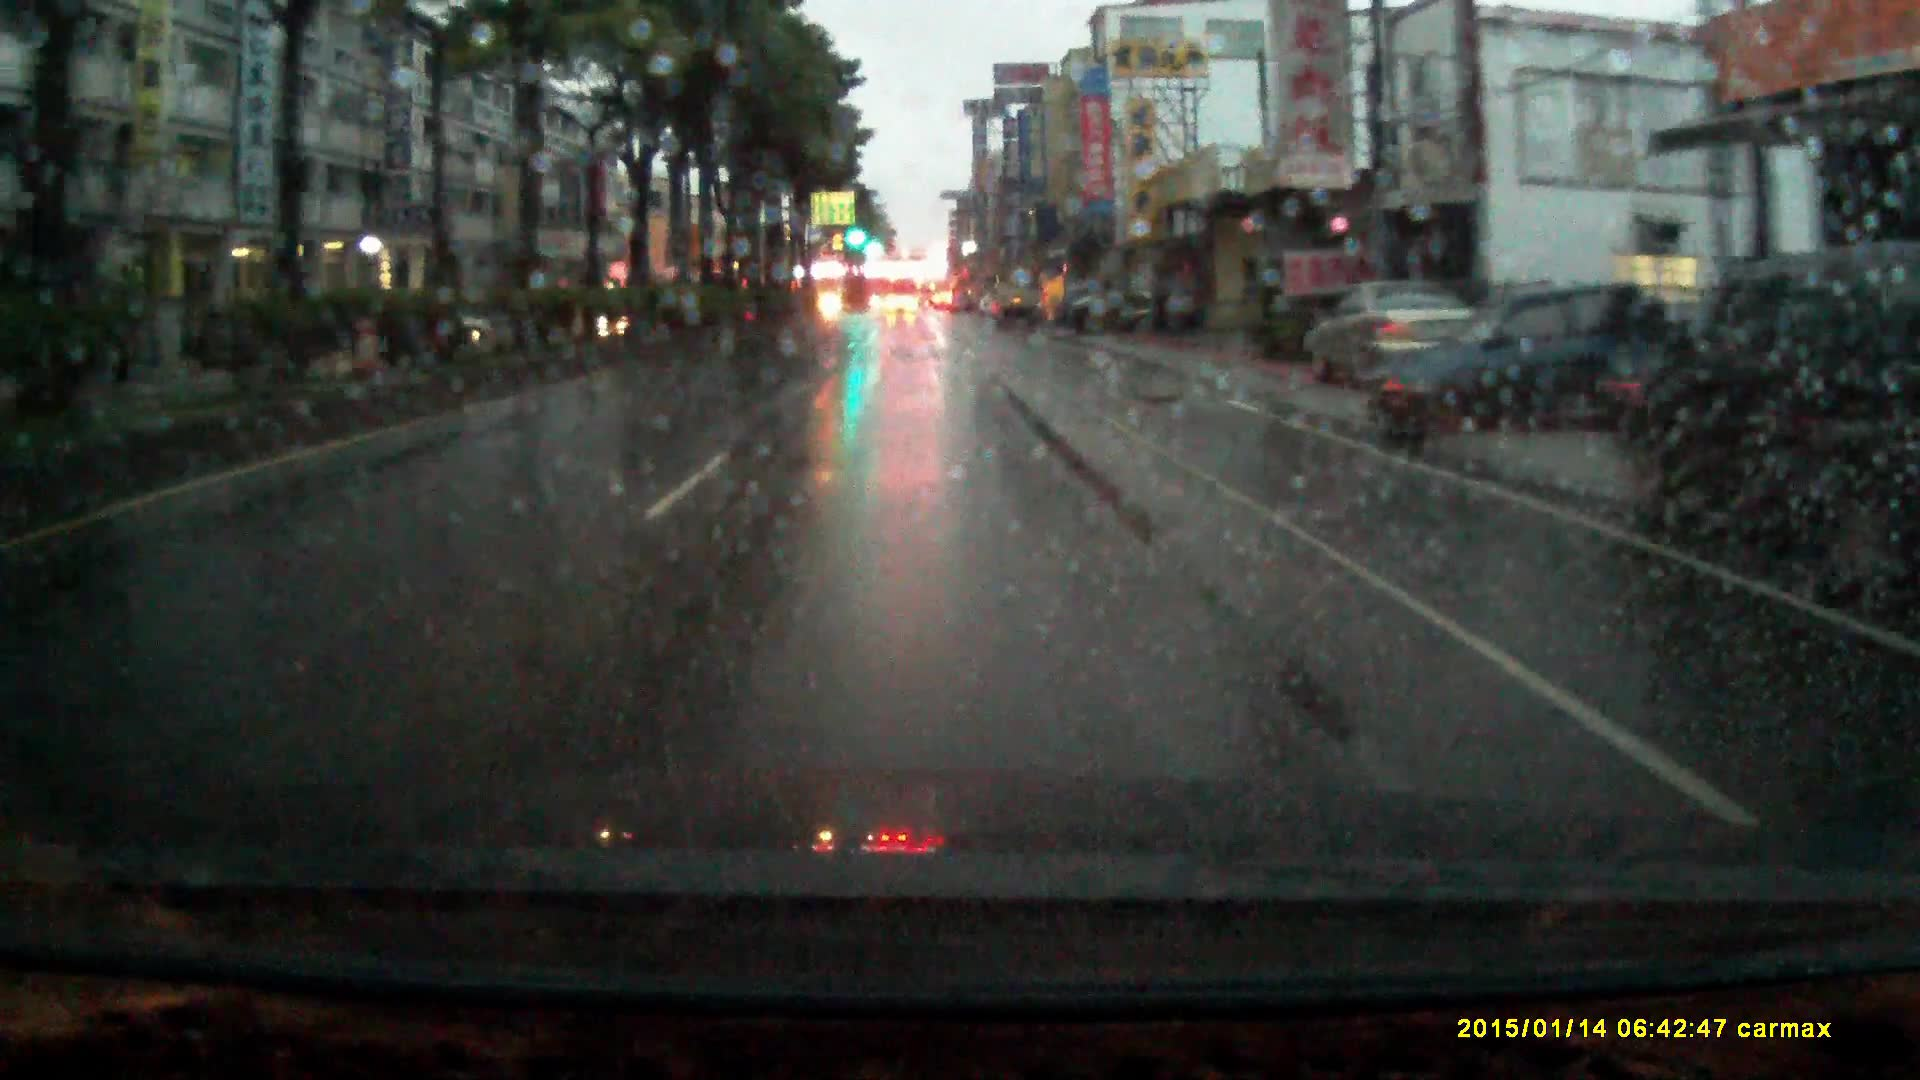vehicle: (1631, 247, 1920, 574), (1364, 285, 1737, 444), (1299, 284, 1485, 394), (1050, 291, 1199, 338), (992, 286, 1040, 334), (886, 298, 919, 320)
